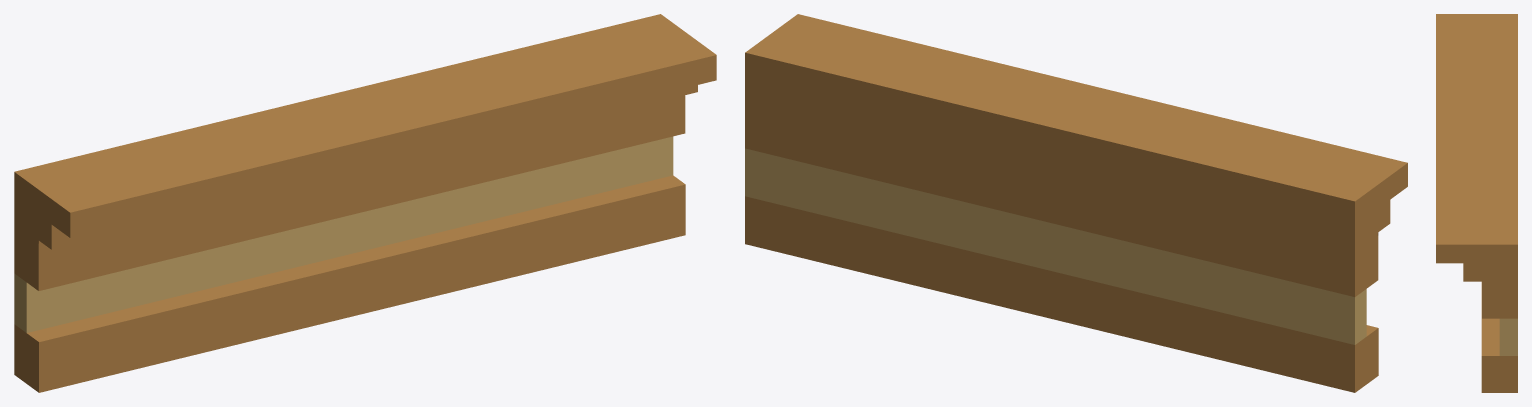
Rendered from upper_room_detail.fbx.
The picture shows the model from 3 angles, left to right: view 1: azimuth 30°, elevation 25°; view 2: azimuth 150°, elevation 25°; view 3: azimuth 270°, elevation 25°; orthographic projection. The views are drawn at different scales.
Visible parts, largest first — view 1: Upper Room Detail; view 2: Upper Room Detail; view 3: Upper Room Detail.
Part boxes in pixels (x1,y1,x2,y2): Upper Room Detail: [14, 14, 716, 392]; Upper Room Detail: [745, 14, 1407, 392]; Upper Room Detail: [1436, 14, 1517, 392].
Size of the model in its own units: 100 by 30 by 15.
